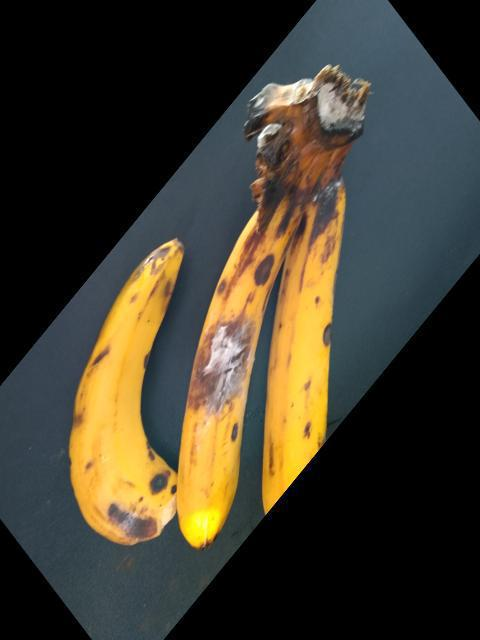ripe: (51, 223, 201, 551), (264, 212, 372, 527)
rotten: (163, 186, 312, 540)
